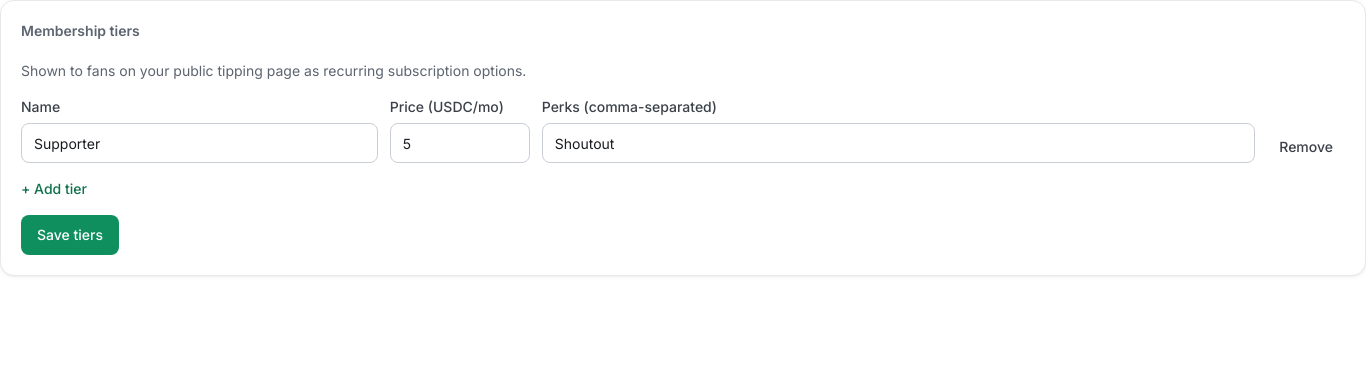
Test case: MembershipTierManager › adds and removes a tier row
What coordinates should you click on to do the following:
click the button "+ Add tier"
I would click on:
 (54, 189)
Its box is top-left (21, 179), bottom-right (87, 199).
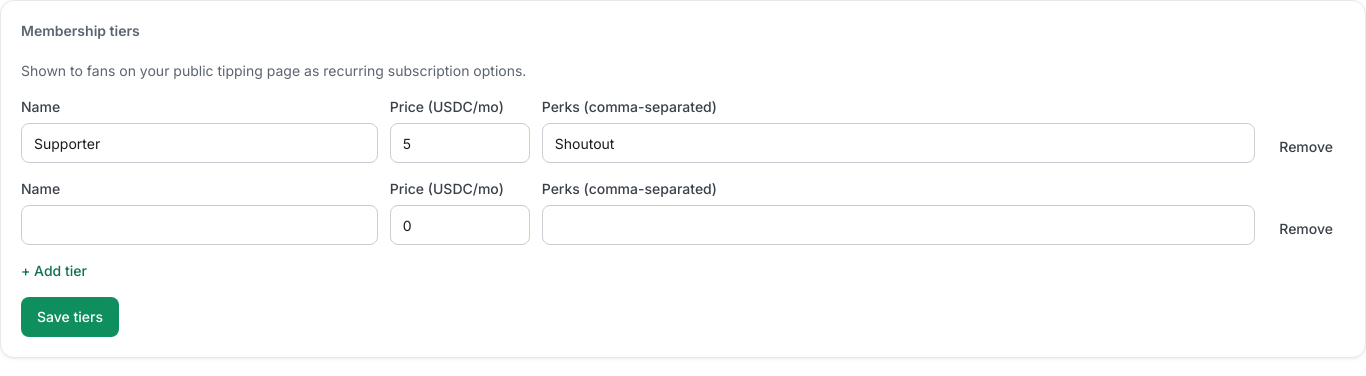
Check: the number of fields labelled "Name" is 2, box top-left (21, 123), bottom-right (378, 163); top-left (21, 205), bottom-right (378, 245)
What coordinates should you click on to do the following:
click the 2nd button "Remove"
I would click on:
 (1306, 229)
Its box is top-left (1267, 213), bottom-right (1345, 245).
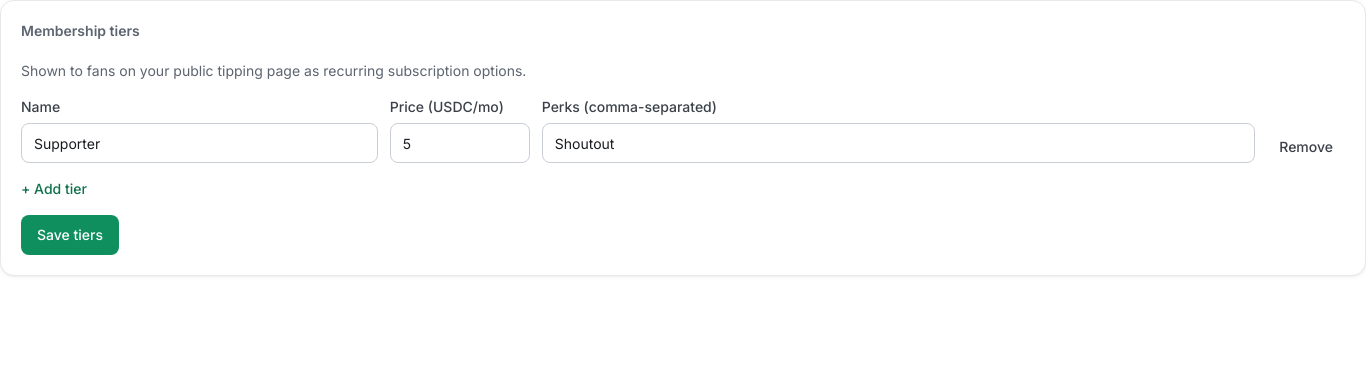
Check: the number of fields labelled "Name" is 1, box top-left (21, 123), bottom-right (378, 163)
